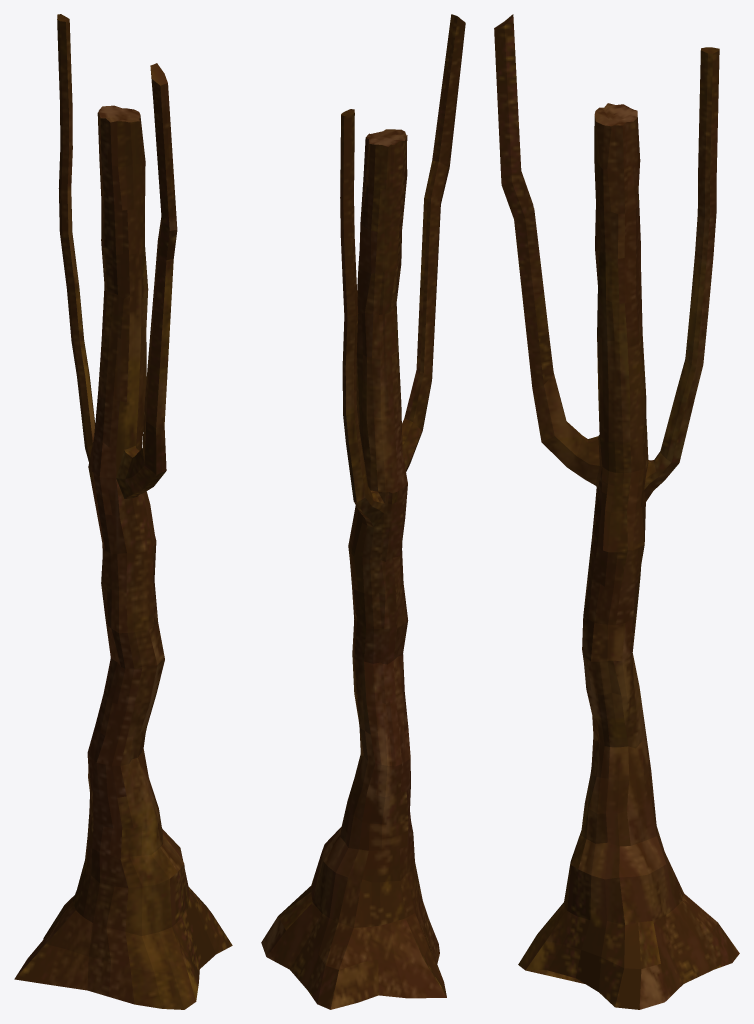
File: SM_Tree2.fbx
3 renders of one model, left to right at view 1: azimuth 30°, elevation 25°; view 2: azimuth 150°, elevation 25°; view 3: azimuth 270°, elevation 25°, orthographic. The views are drawn at different scales.
Parts seen in each view (by area): view 1: Cylinder.001; view 2: Cylinder.001; view 3: Cylinder.001.
Part boxes in pixels (left/top/right/bottom): Cylinder.001: left=14, top=14, right=232, bottom=1009; Cylinder.001: left=261, top=14, right=465, bottom=1009; Cylinder.001: left=494, top=14, right=739, bottom=1009.
Size of the model in its own units: 355 by 1599 by 381.
